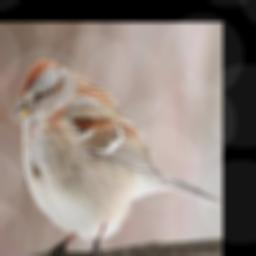Sparrow: (13, 58, 221, 256)
